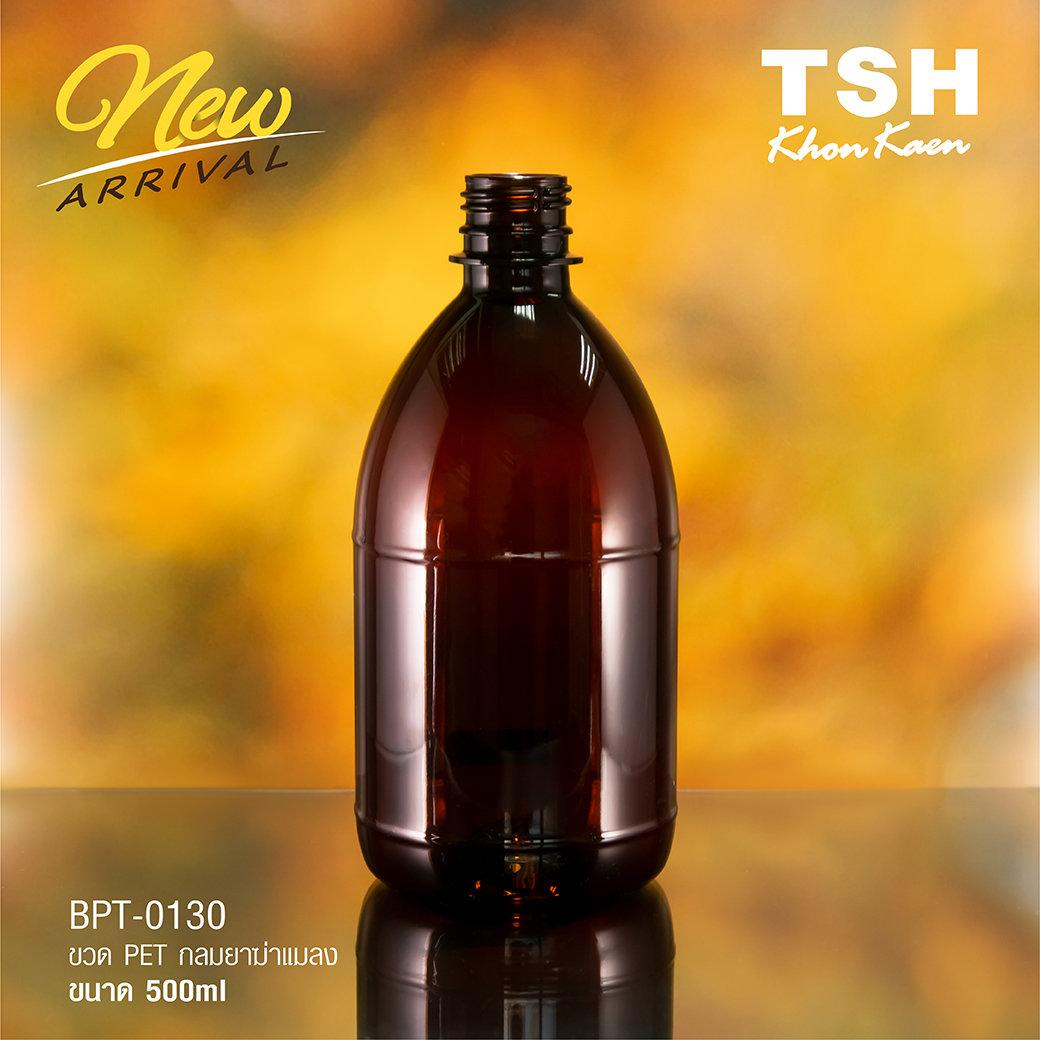Insecticide: (339, 167, 689, 929)
